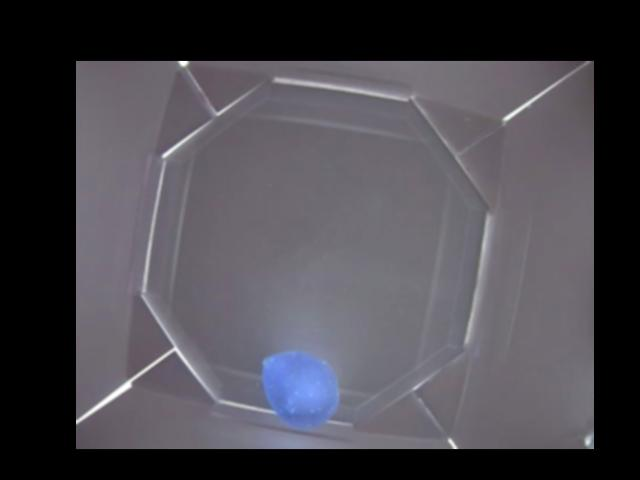Potato: (259, 350, 337, 431)
